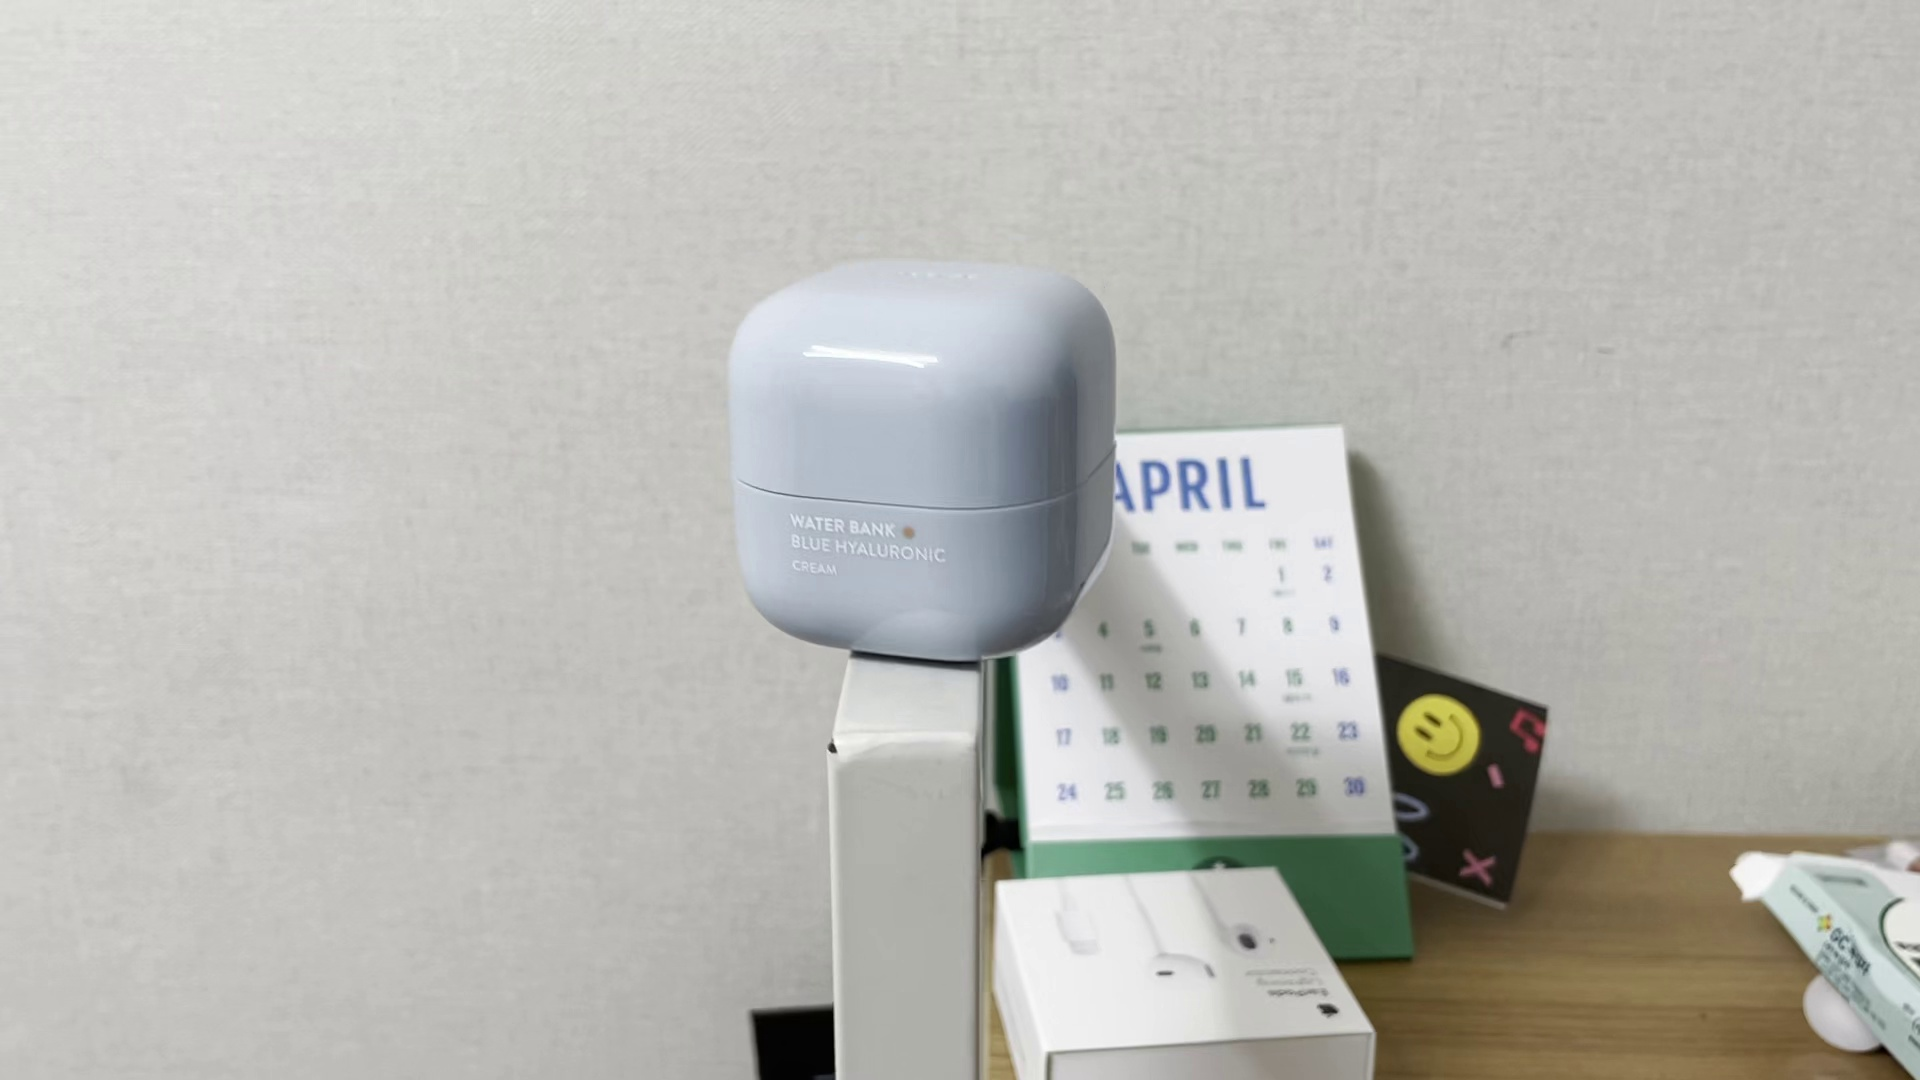cream: (727, 256, 1118, 666)
